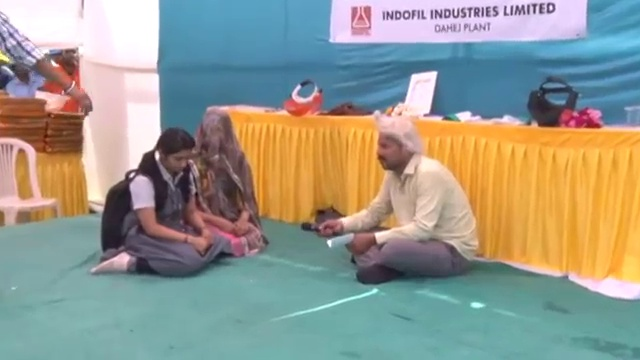helmet: (33, 90, 69, 113)
helmet_off: (364, 118, 426, 180), (196, 111, 238, 168), (153, 127, 194, 183), (9, 60, 33, 83), (62, 48, 79, 67)
person: (316, 113, 483, 284), (94, 129, 223, 281), (184, 111, 264, 262), (43, 47, 80, 112), (7, 61, 49, 98)
